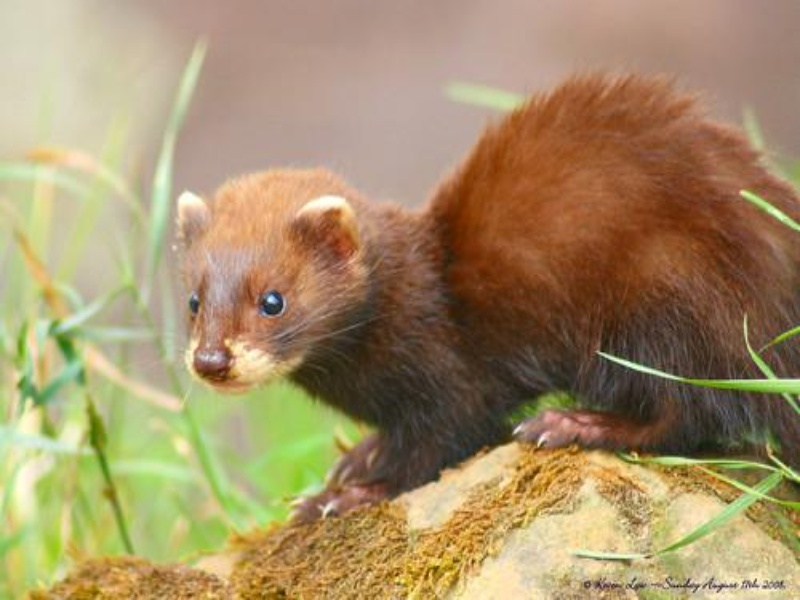minkish: (168, 63, 800, 526)
